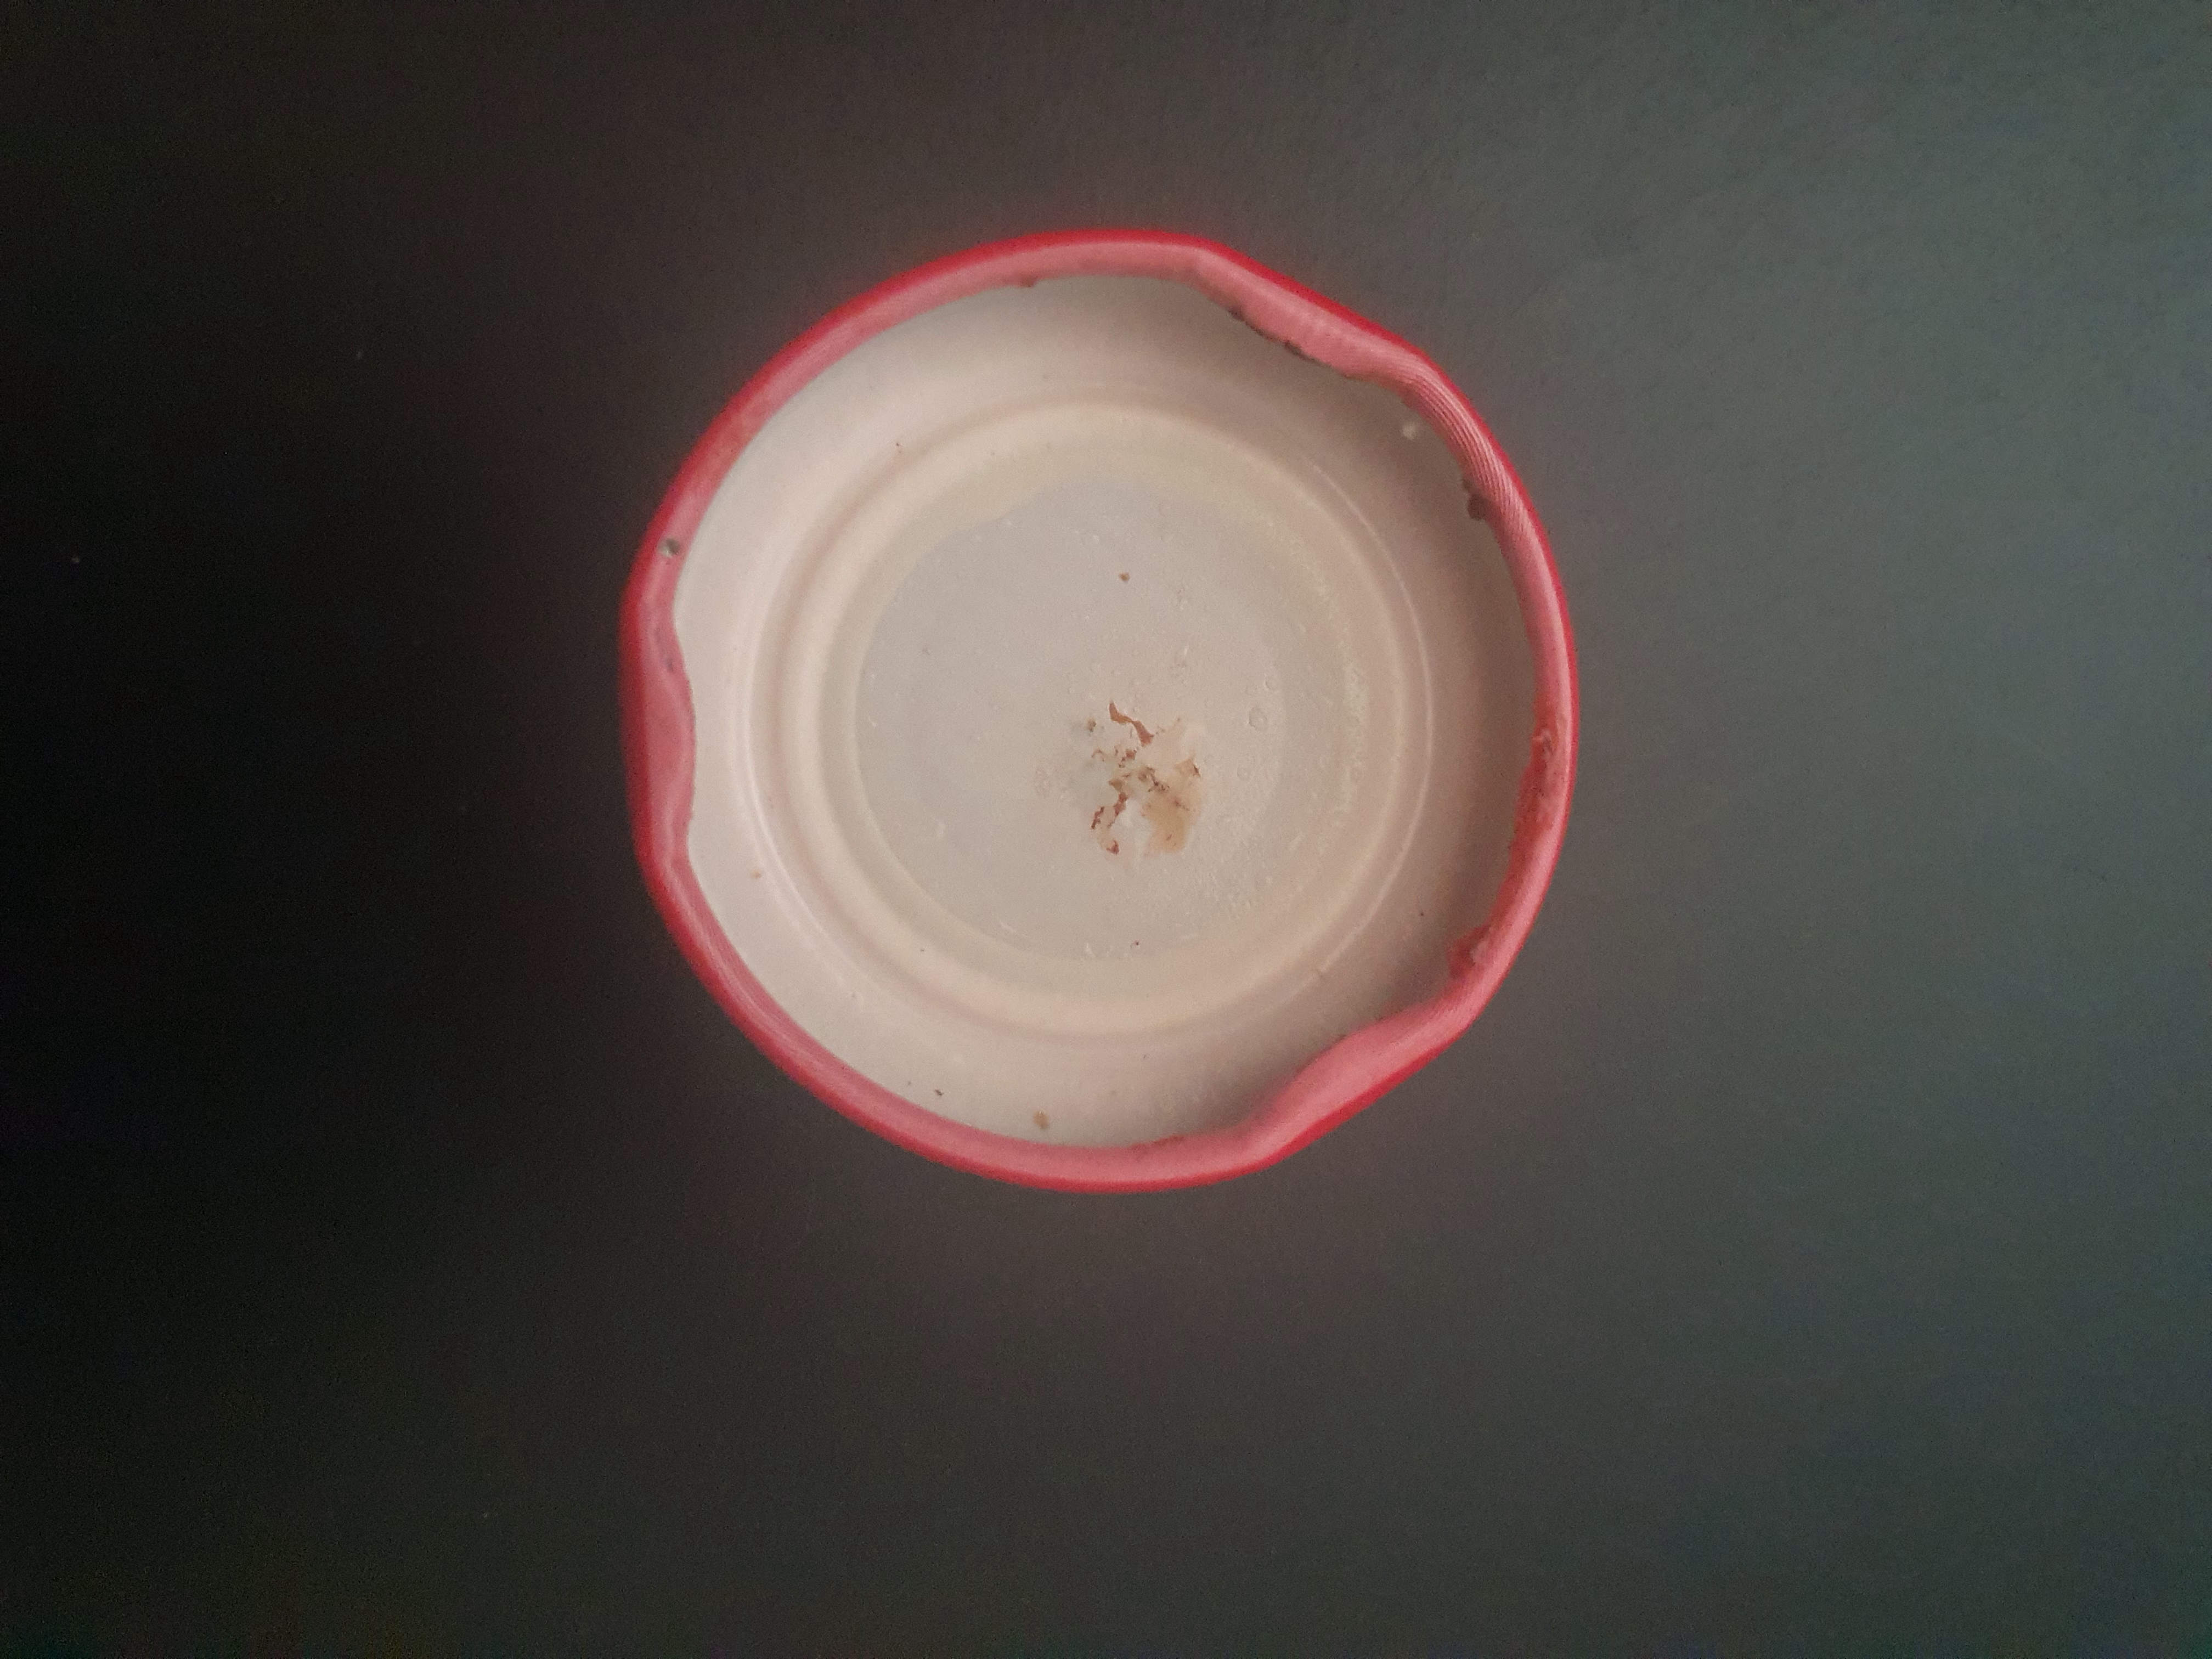metal: (604, 195, 1627, 1206)
